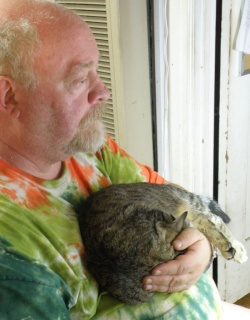Cat: (76, 181, 248, 305)
